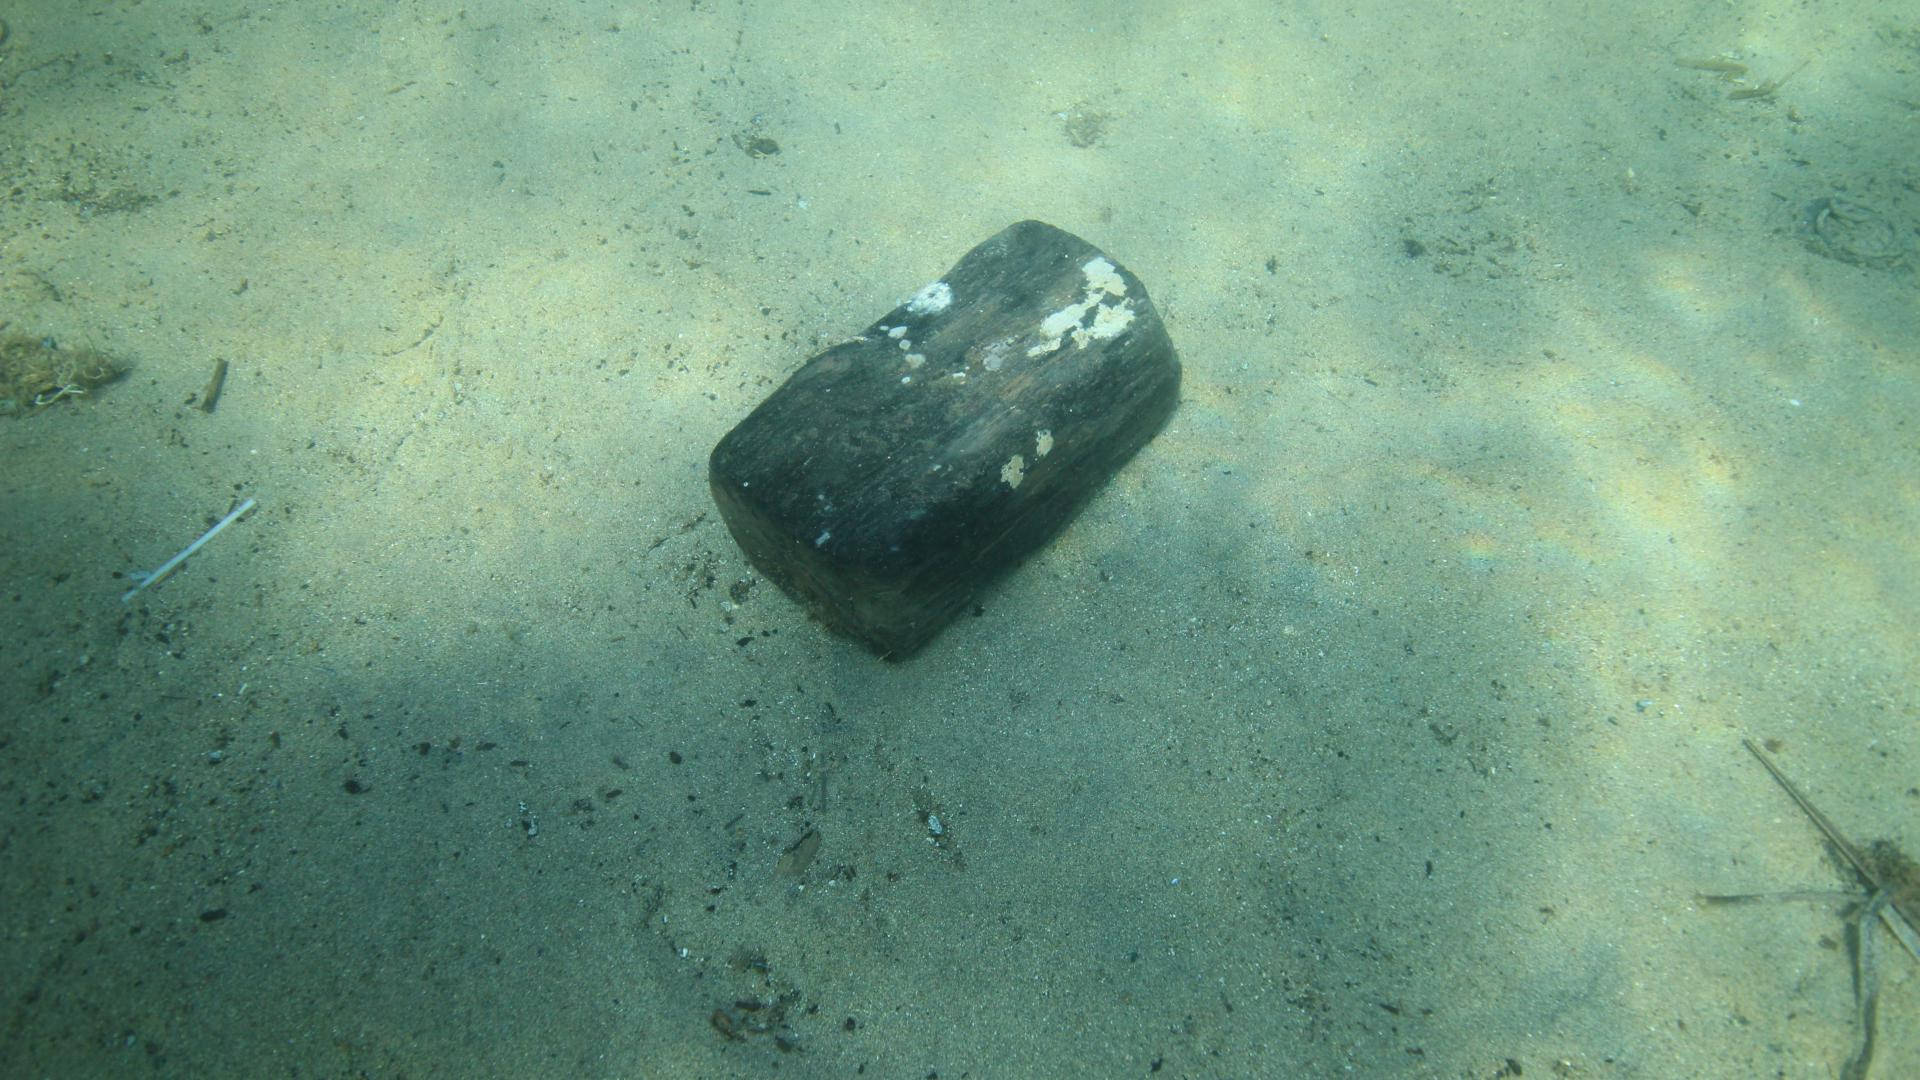wood: (708, 218, 1182, 665)
